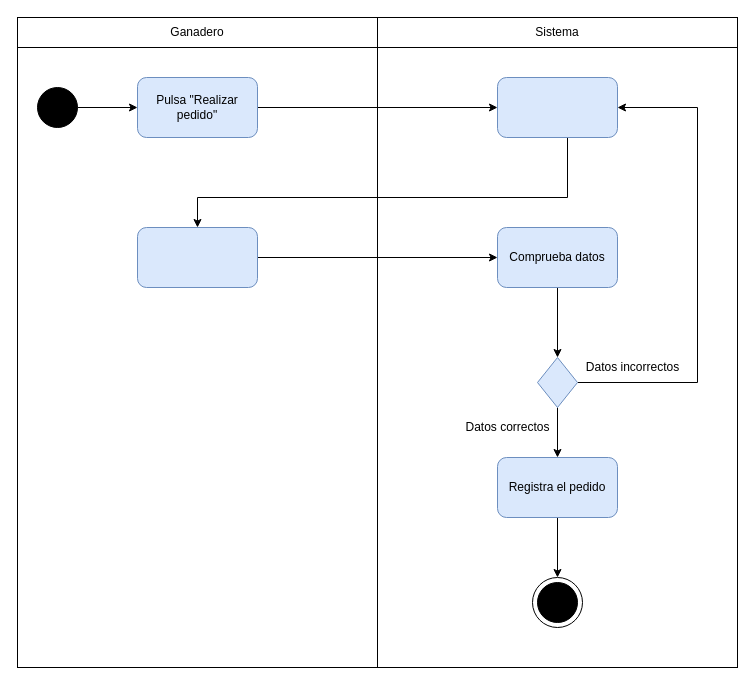
This 755x685 diagram has some shape labels left out. The centre of each missing label's shape, as x and y in pixels:
"Muestra una solicitud a rellenar con los datos del pedido" belongs at [557,107].
"Rellena la solicitud" belongs at [197,257].
